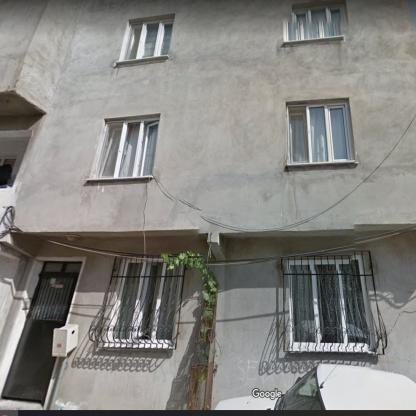door: (2, 275, 77, 402)
window: (287, 260, 374, 350), (106, 259, 182, 345), (287, 101, 351, 163), (93, 117, 158, 178), (286, 4, 346, 40), (123, 19, 173, 61), (41, 262, 81, 274)
